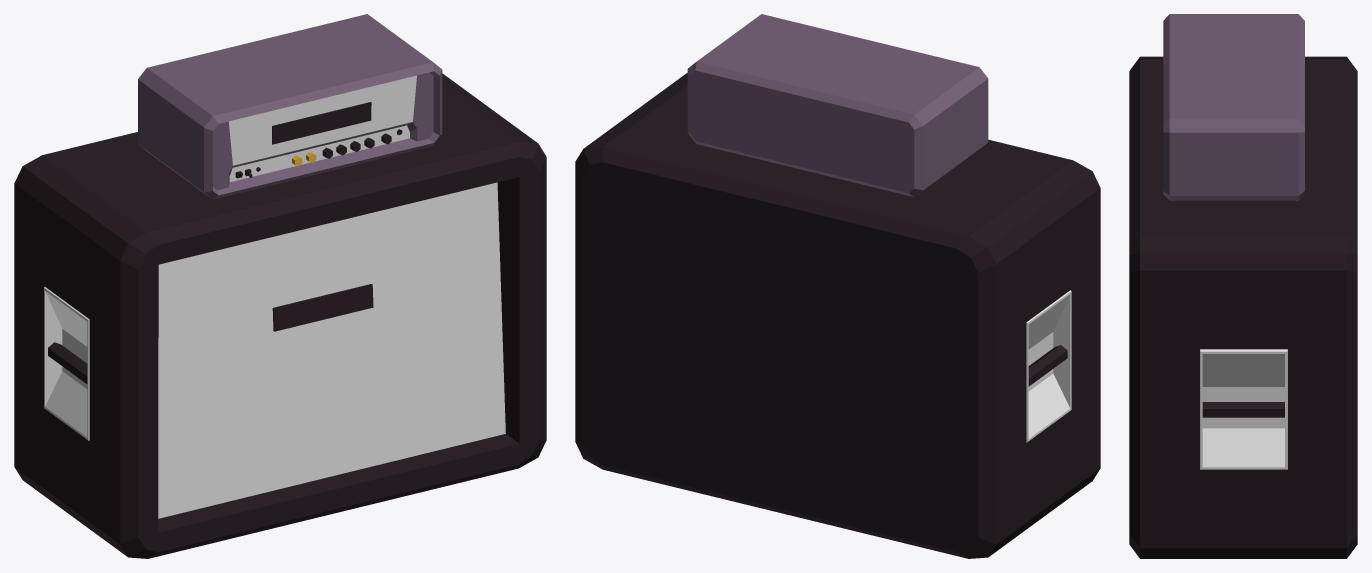
File: speaker3.fbx
The picture shows the model from 3 angles, left to right: view 1: azimuth 30°, elevation 25°; view 2: azimuth 150°, elevation 25°; view 3: azimuth 270°, elevation 25°; orthographic projection. The views are drawn at different scales.
Visible parts, largest first — view 1: Amplifier Combi; view 2: Amplifier Combi; view 3: Amplifier Combi.
Part boxes in pixels (box(x1,y1,x2,y2)): Amplifier Combi: box(14, 14, 546, 558); Amplifier Combi: box(575, 14, 1100, 558); Amplifier Combi: box(1129, 14, 1357, 558).
Size of the model in its own units: 5.46 by 5 by 2.57.
